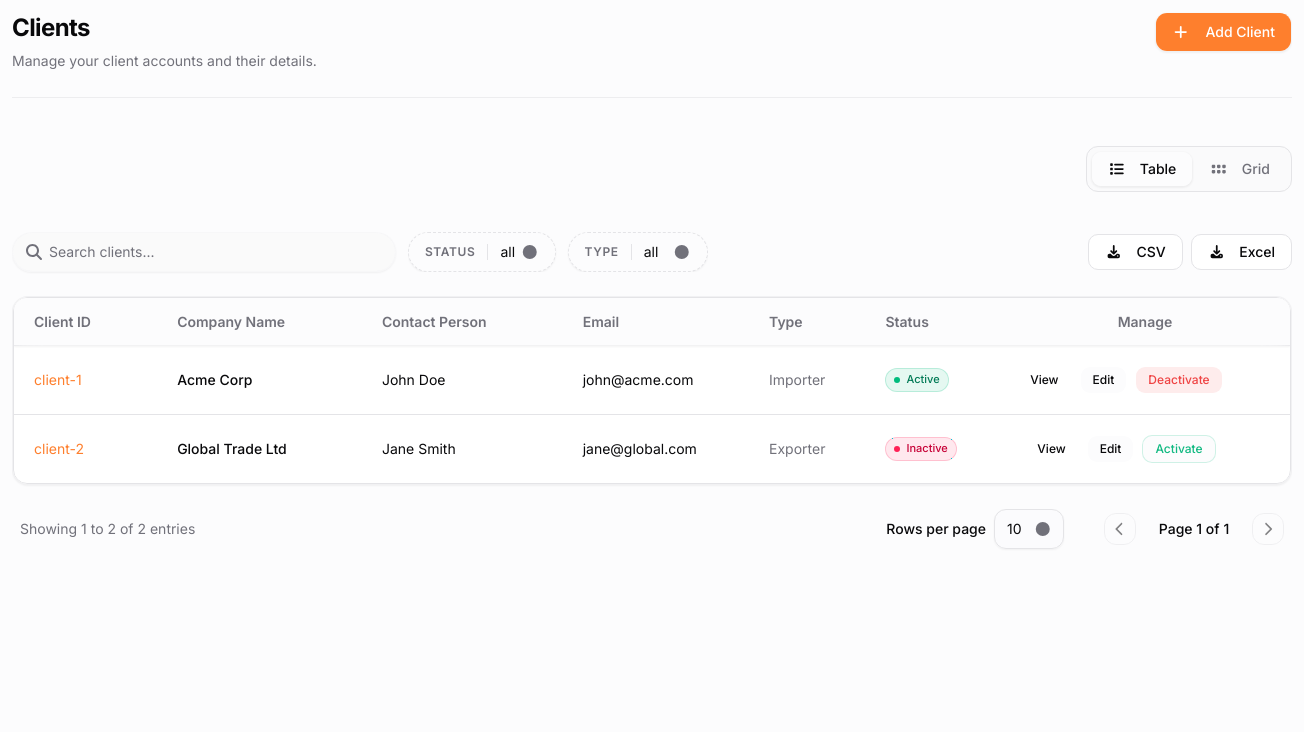
Clients Page › filters clients by search text
Type "Acme" into the field with placeholder "Search clients...".
click(204, 252); type("Acme")  # box [12,232,396,272]
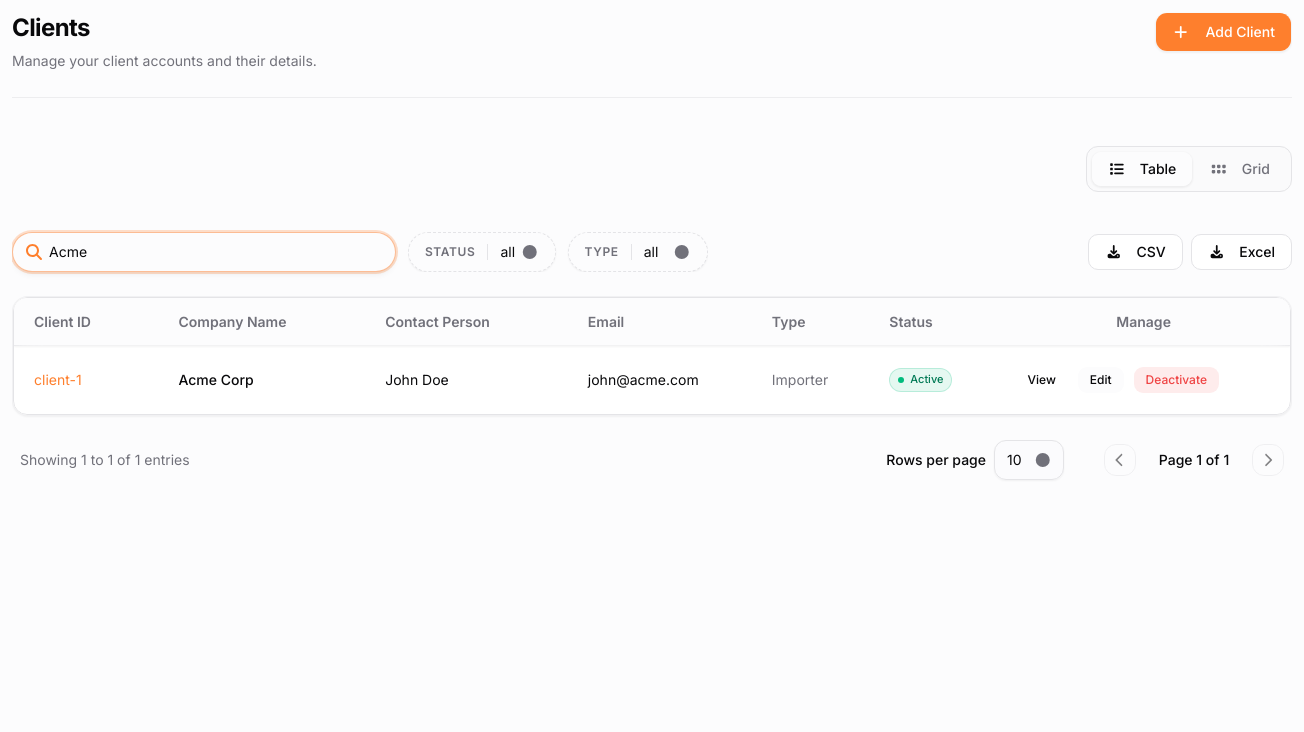
Expected: the link "Acme Corp" is shown, [178,371,254,388]
Result: the link "Global Trade Ltd" is gone
